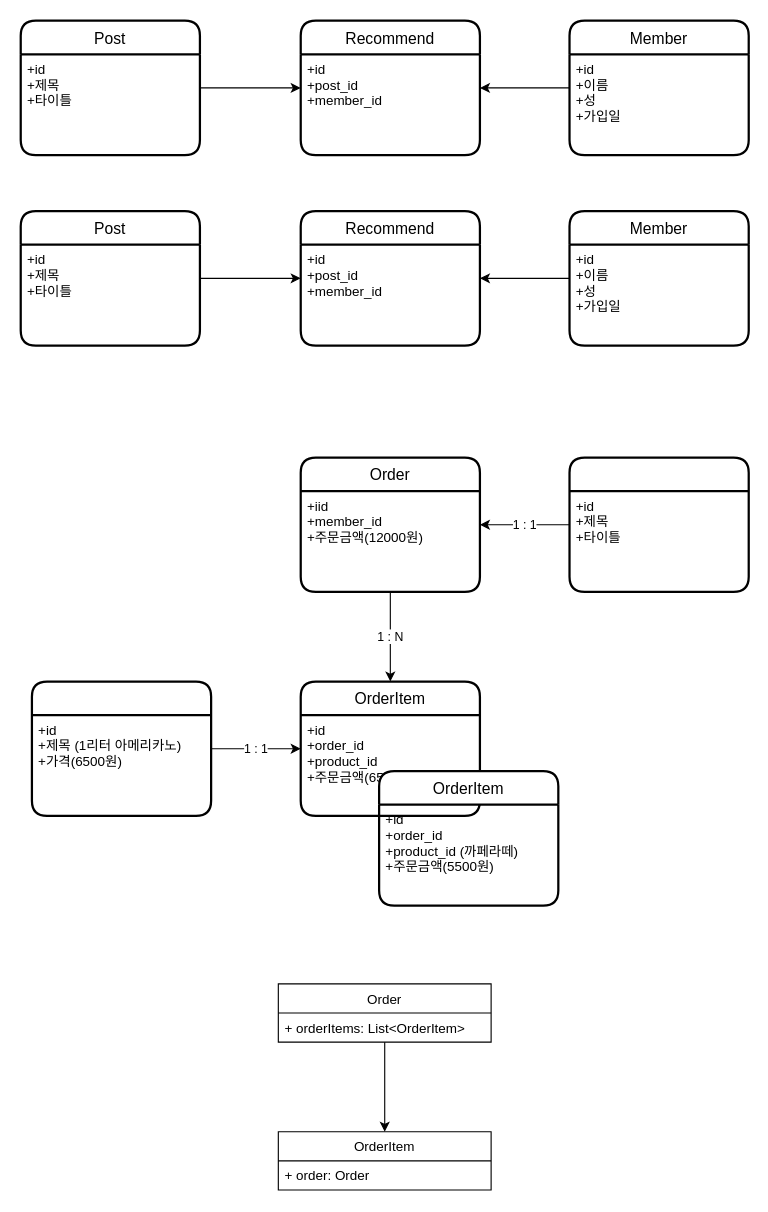
The diagram is 768 pixels wide and 1212 high, and some of its shapes have lost their labels. Here are the shapes that lost their labels. From the top down, the box of each, then its label:
(568, 456, 749, 592): Customer
(30, 680, 212, 816): Coffee
